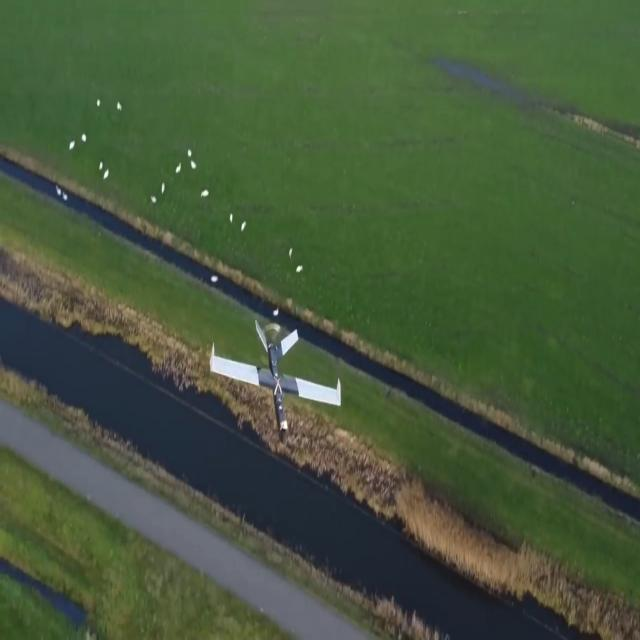iha: (211, 314, 340, 442)
